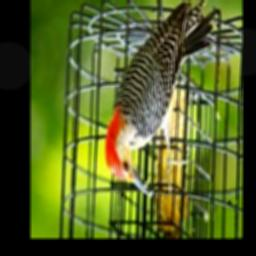Woodpecker: (104, 1, 213, 198)
